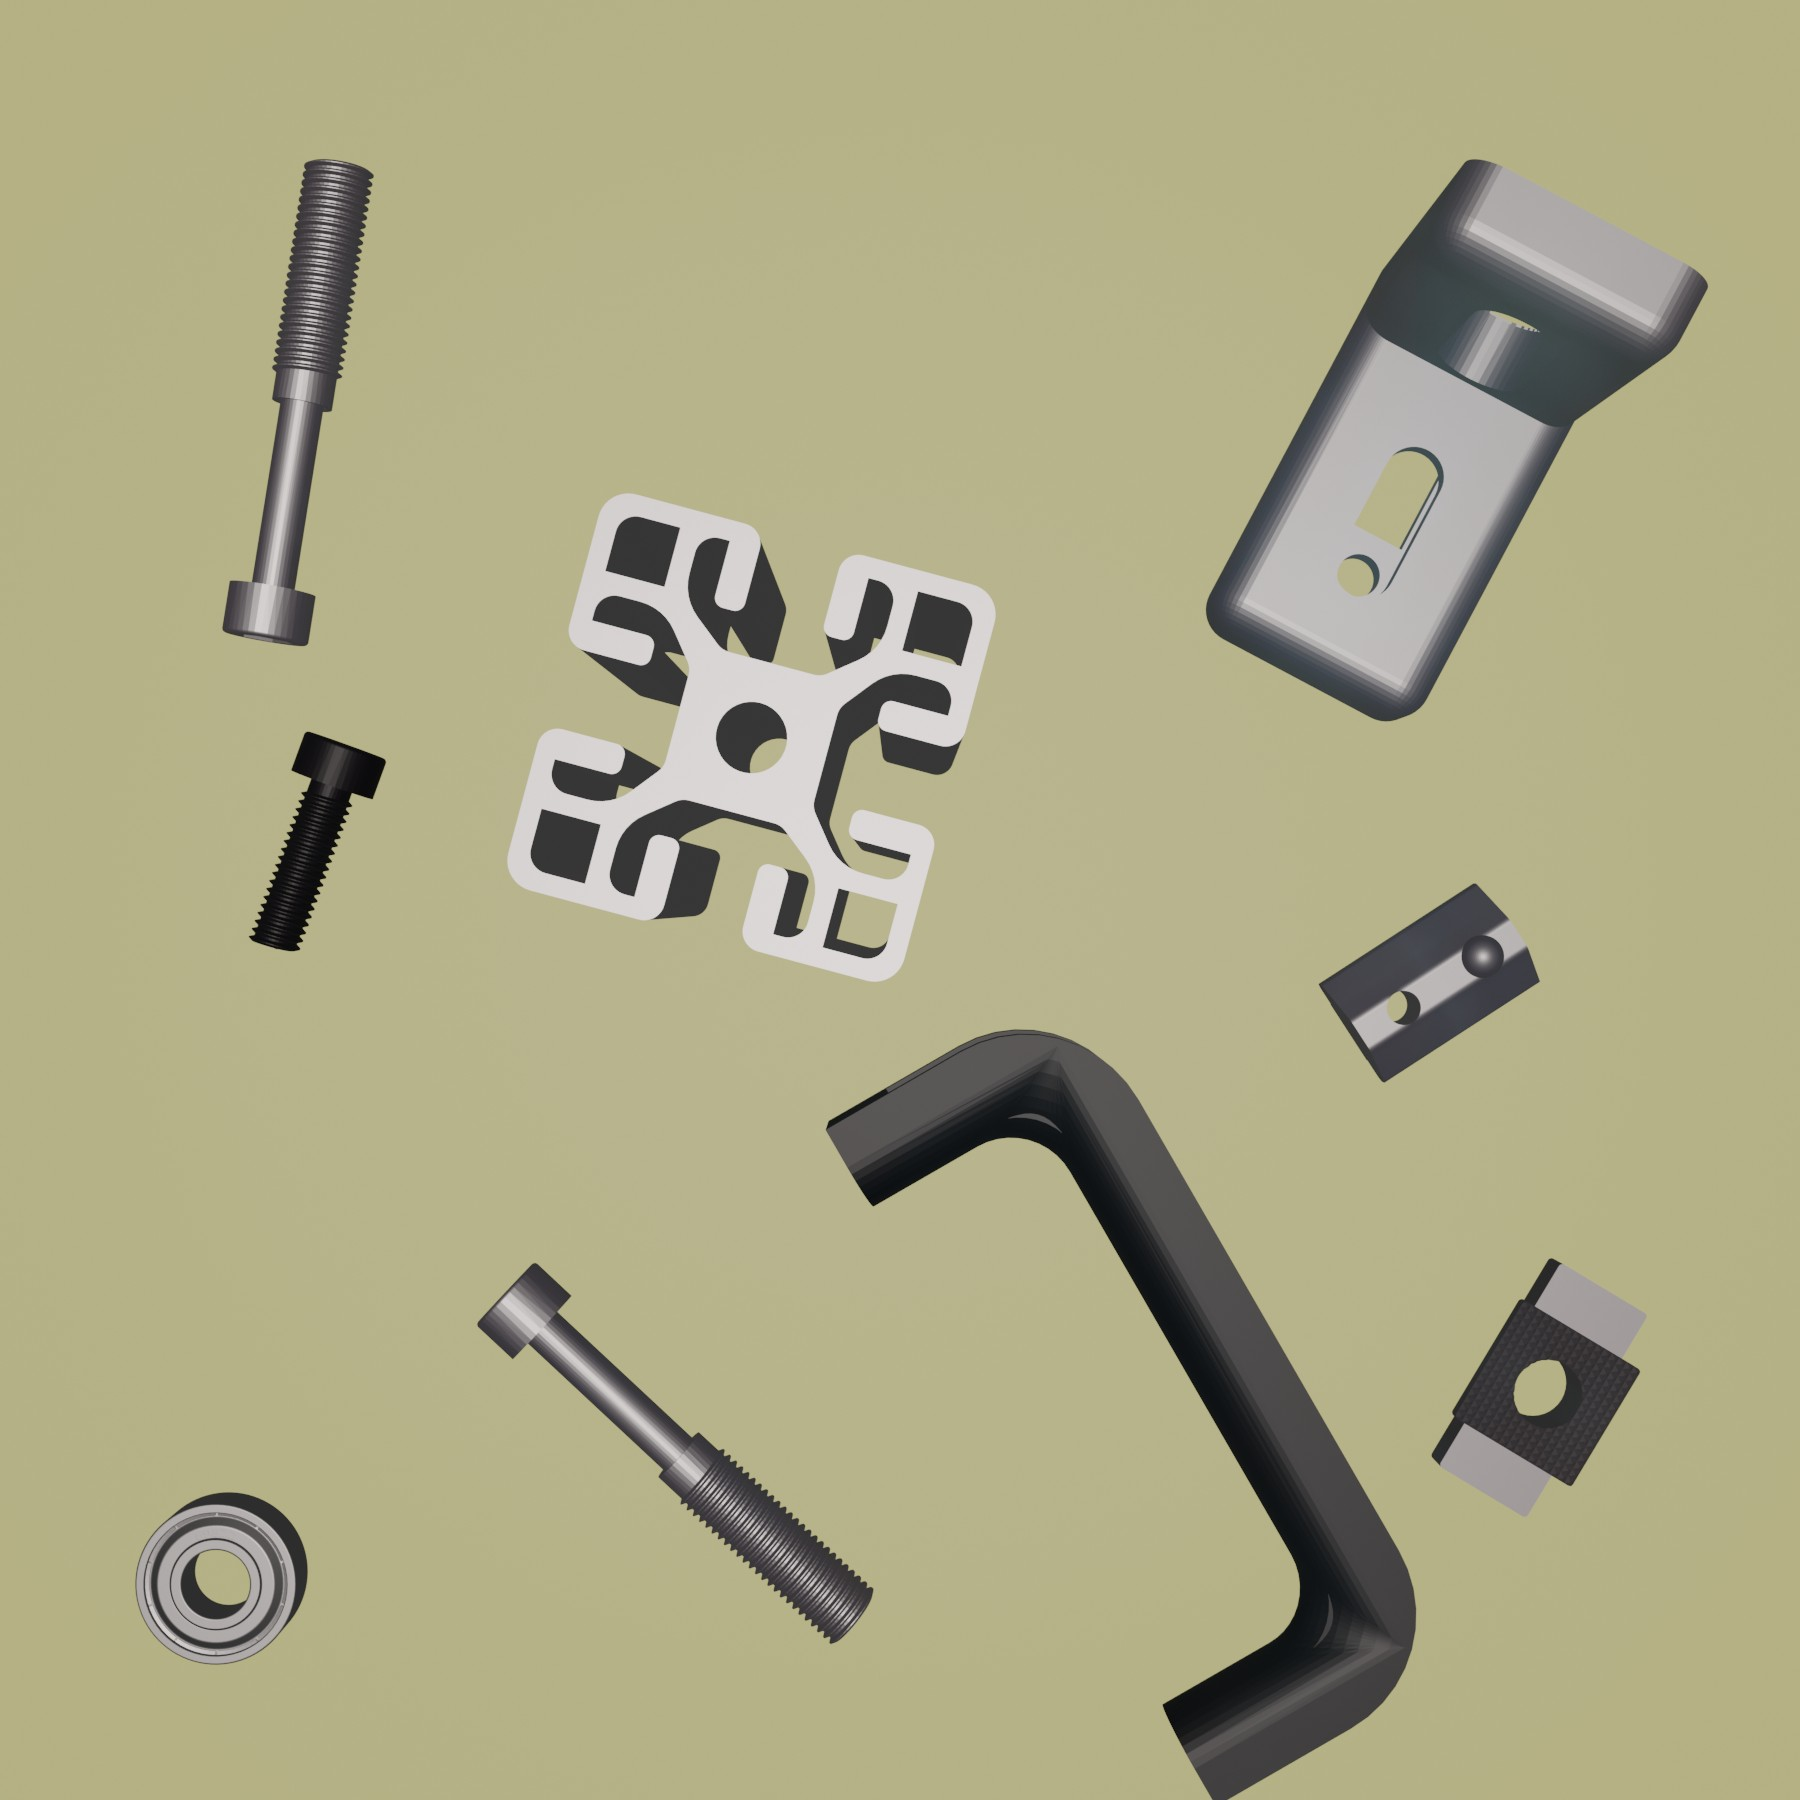Aluminium Extension: (504, 491, 997, 986)
Ball Bearing: (134, 1488, 312, 1668)
Multiwinkel: (1207, 158, 1709, 724)
Pull Handle: (824, 1027, 1419, 1800)
Shoulder Socket Head Cap Screw: (476, 1261, 875, 1647), (219, 155, 376, 649)
Socket Head Cap Screw: (246, 730, 386, 954)
T Nut Square: (1432, 1254, 1650, 1520)
T Spring Nut: (1317, 879, 1543, 1088)
